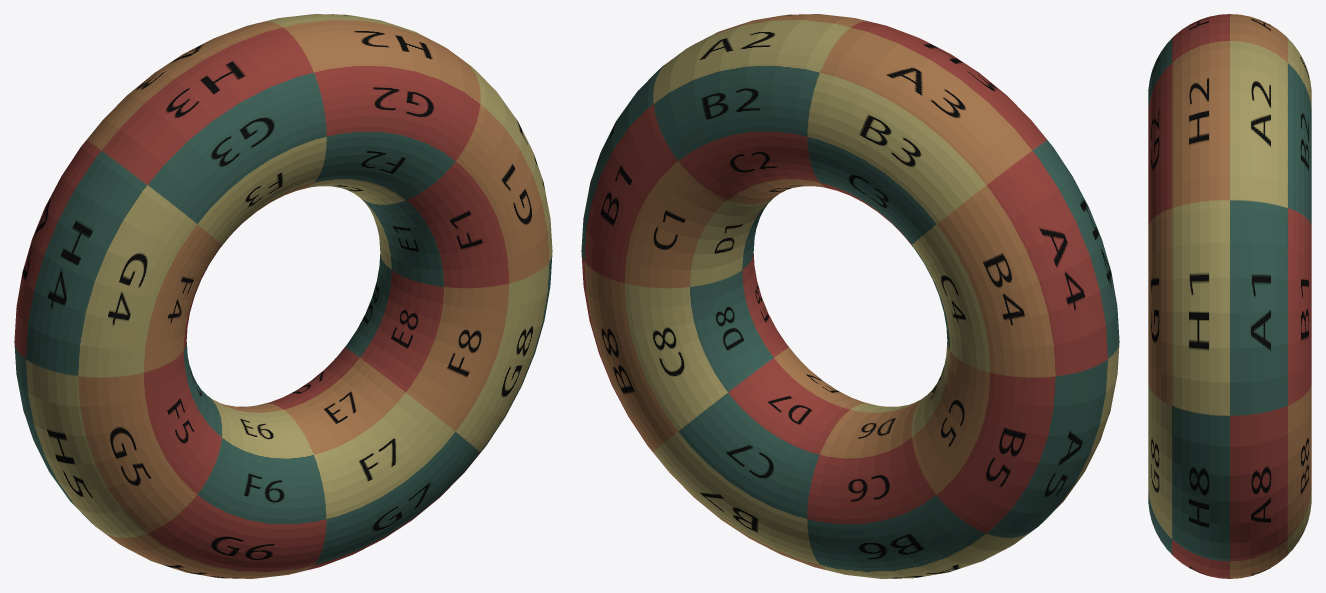
File: texture_torus_R10_r18.glb
The picture shows the model from 3 angles, left to right: view 1: azimuth 30°, elevation 25°; view 2: azimuth 150°, elevation 25°; view 3: azimuth 270°, elevation 25°; orthographic projection. The views are drawn at different scales.
Visible parts, largest first — view 1: world; view 2: world; view 3: world.
Part boxes in pixels (<box>): world: <box>14,14,552,578</box>; world: <box>581,14,1119,578</box>; world: <box>1148,14,1311,578</box>.
Bounding box in the file's own units: 23.47 × 23.42 × 6.79.
1 material, 1 textured.
